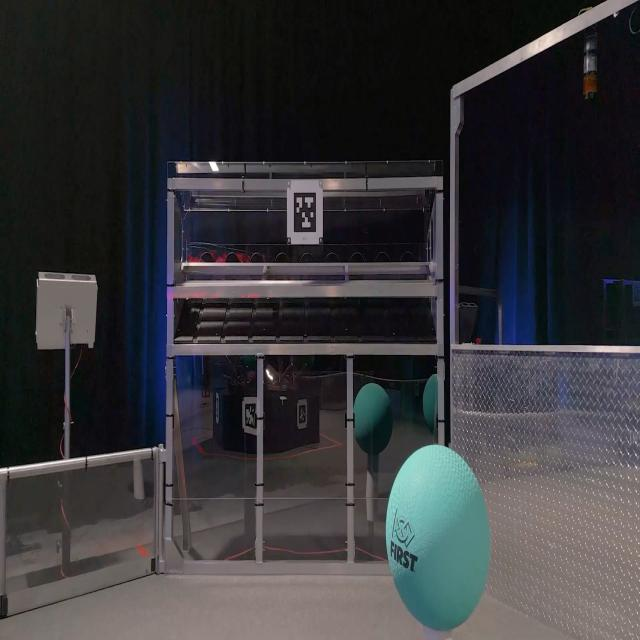Algae: (386, 445, 491, 631)
